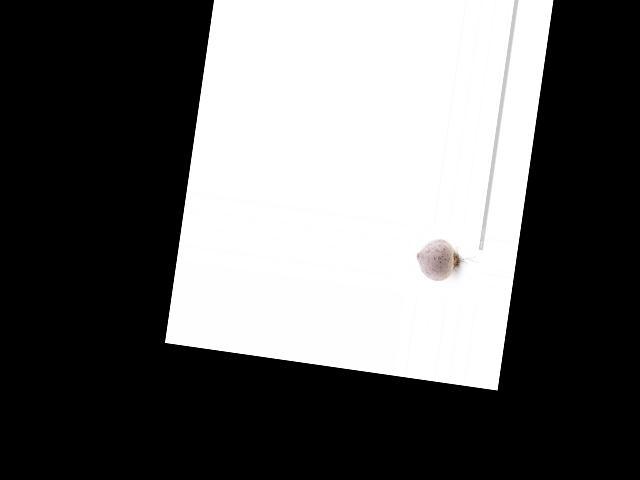beet: (413, 235, 481, 286)
